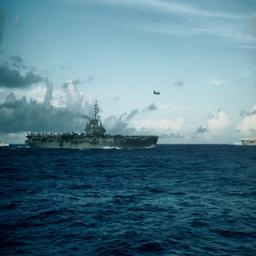Portanaves: (24, 97, 162, 155)
